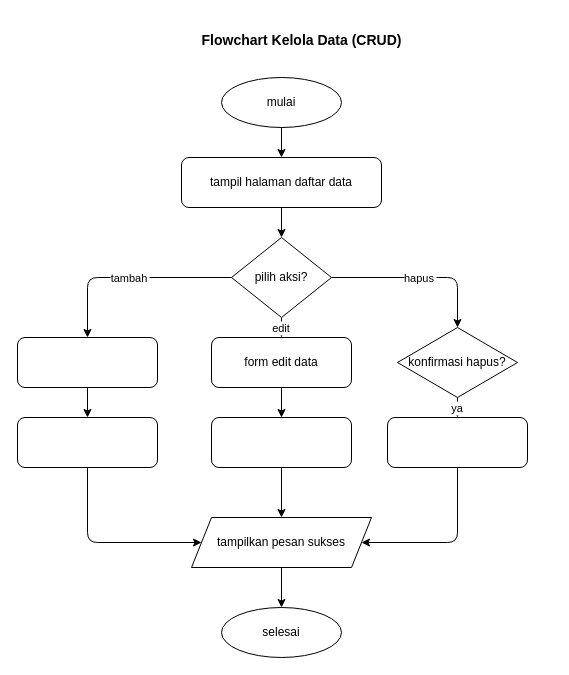
This 569x675 diagram has some shape labels left out. Here are the shapes that lost their labels. From the top down, the centre of each, then its label:
(x=87, y=362): form tambah data
(x=87, y=442): proses simpan
(x=281, y=442): proses update
(x=457, y=442): proses hapus
